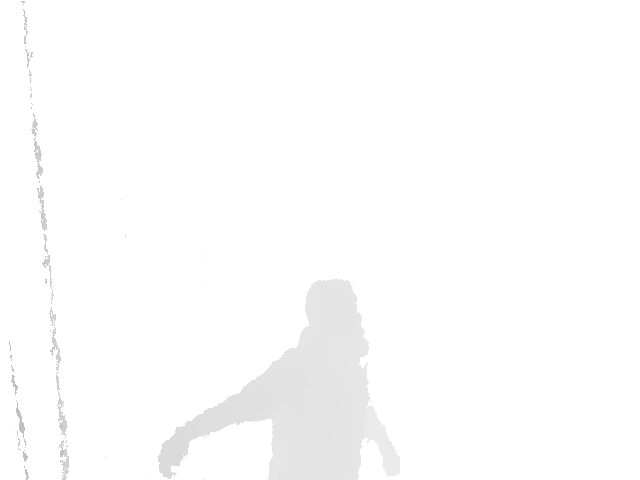head: (304, 279, 368, 359)
person: (158, 280, 400, 480)
